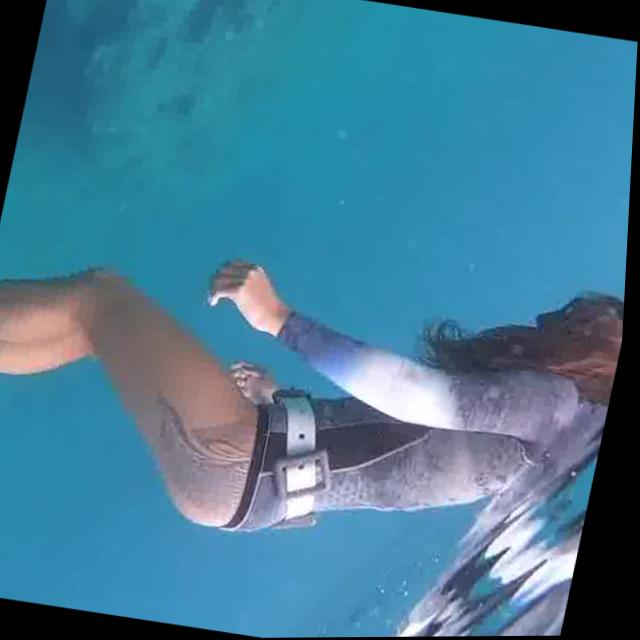human: (0, 193, 632, 602)
